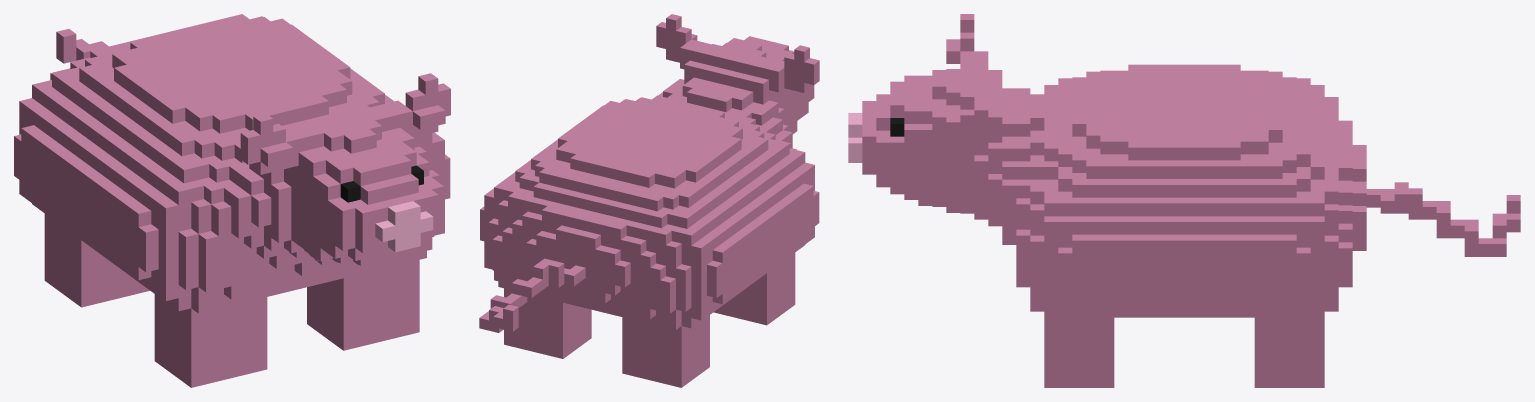
File: Pig_Idle02.obj
The picture shows the model from 3 angles, left to right: view 1: azimuth 30°, elevation 25°; view 2: azimuth 150°, elevation 25°; view 3: azimuth 270°, elevation 25°; orthographic projection. The views are drawn at different scales.
Bounding box in the file's own units: 24 × 22 × 48.
1 material, 1 textured.
